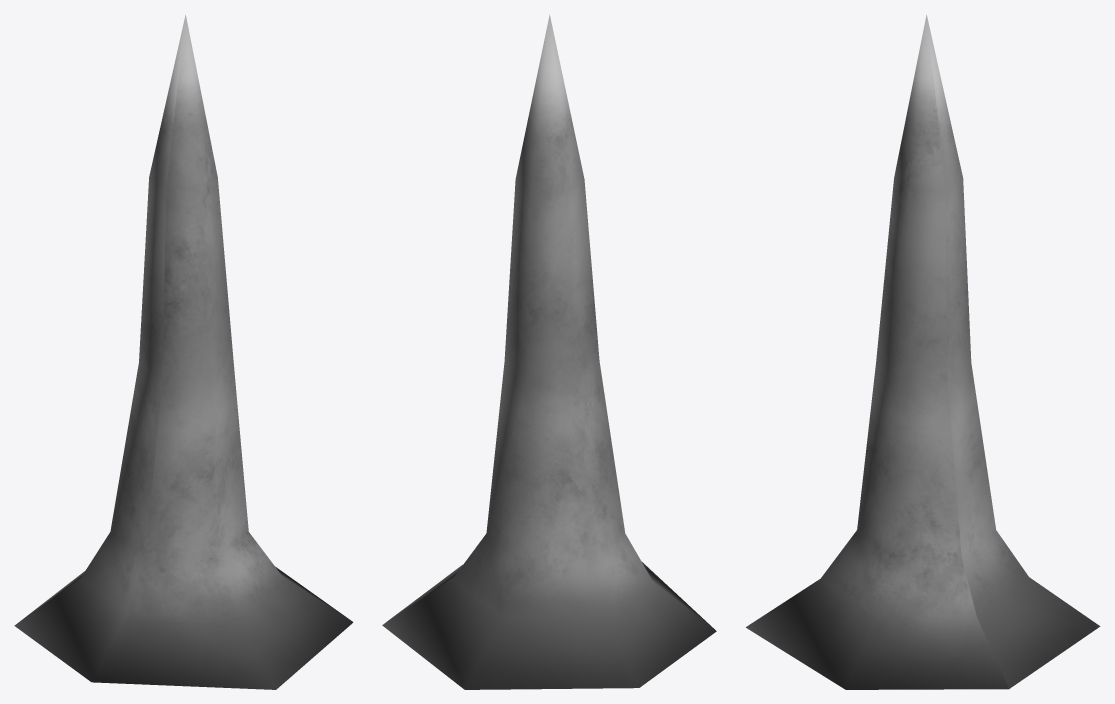
The model's file is Salagite.fbx.
The picture shows the model from 3 angles, left to right: view 1: azimuth 30°, elevation 25°; view 2: azimuth 150°, elevation 25°; view 3: azimuth 270°, elevation 25°; orthographic projection.
Parts seen in each view (by area): view 1: stalagite; view 2: stalagite; view 3: stalagite.
Boxes of the visible parts, left/top/right/bottom form: stalagite: left=14, top=15, right=353, bottom=689; stalagite: left=382, top=14, right=716, bottom=689; stalagite: left=746, top=14, right=1100, bottom=689.
Size of the model in its own units: 288 by 341 by 650.
1 material, 1 textured.
